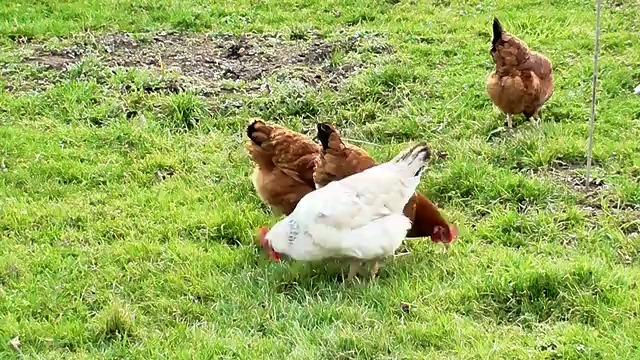Normal: (258, 146, 421, 286), (485, 20, 557, 120)
